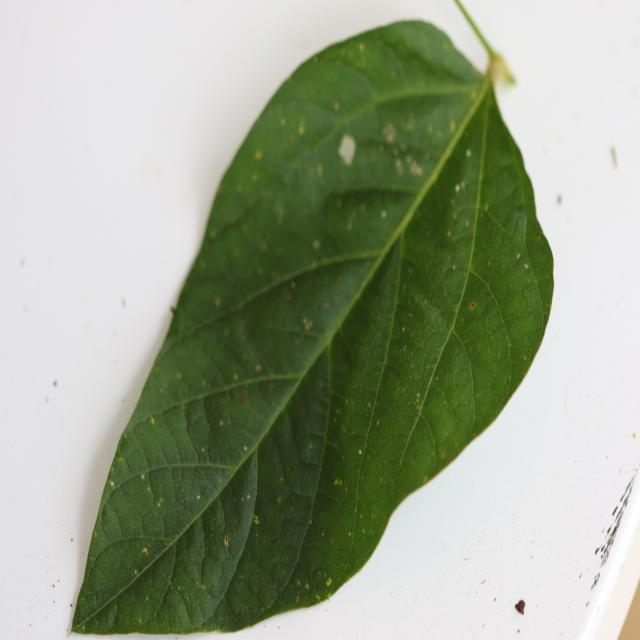Soybean: (69, 20, 556, 638)
downey_mildew: (333, 247, 424, 489), (411, 104, 489, 329), (222, 462, 315, 625), (245, 251, 382, 358), (167, 456, 249, 625), (192, 357, 310, 474), (264, 257, 376, 377), (296, 442, 372, 614), (107, 404, 214, 517), (448, 272, 512, 445), (73, 530, 175, 630), (359, 85, 476, 170), (354, 21, 481, 97), (262, 377, 324, 510), (419, 329, 476, 472), (469, 108, 528, 245), (282, 59, 379, 135), (319, 187, 416, 261), (261, 94, 351, 171), (194, 187, 281, 266), (388, 270, 455, 363), (461, 90, 493, 284), (518, 220, 553, 372), (98, 462, 161, 543), (496, 280, 544, 360), (130, 461, 244, 490), (158, 403, 201, 467), (476, 204, 533, 252), (353, 133, 420, 167), (360, 439, 390, 494)
